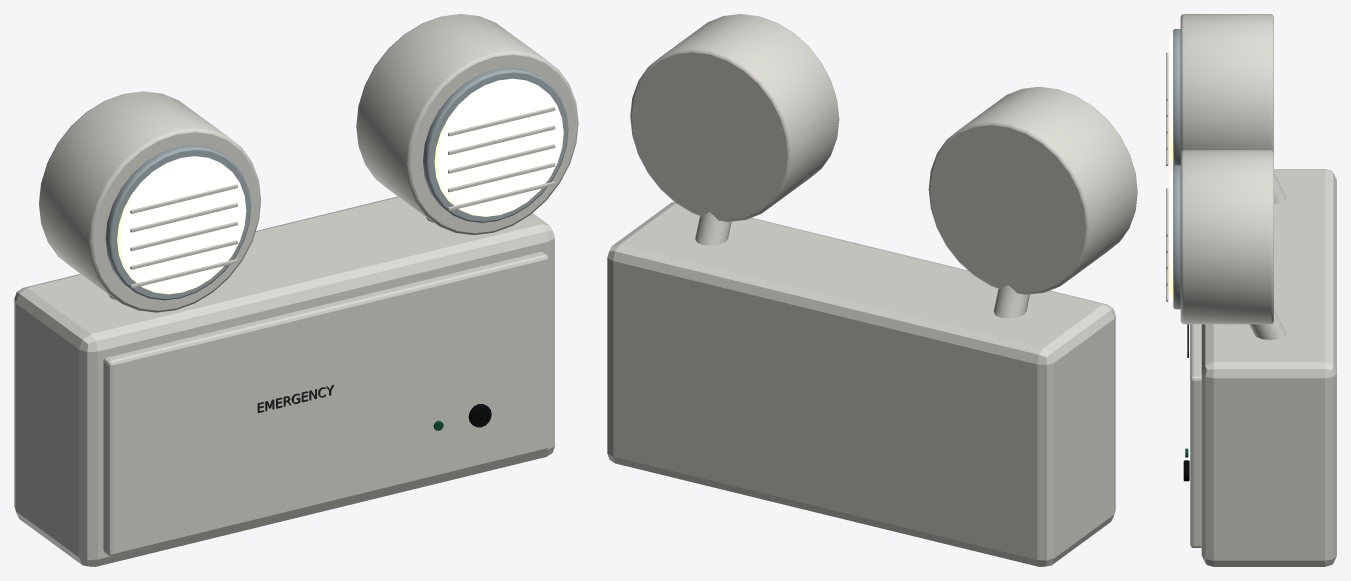
The model's file is OAA_EmergencyLight_Twin.fbx.
3 views of the same model, side by side, from view 1: azimuth 30°, elevation 25°; view 2: azimuth 150°, elevation 25°; view 3: azimuth 270°, elevation 25° (orthographic). The views are drawn at different scales.
Parts seen in each view (by area): view 1: Body; view 2: Body; view 3: Body.
Part boxes in pixels (x1=…): Body: x1=14, y1=14, x2=578, y2=566; Body: x1=607, y1=14, x2=1137, y2=566; Body: x1=1166, y1=14, x2=1336, y2=566.
Size of the model in its own units: 0.33 by 0.279 by 0.1137.
